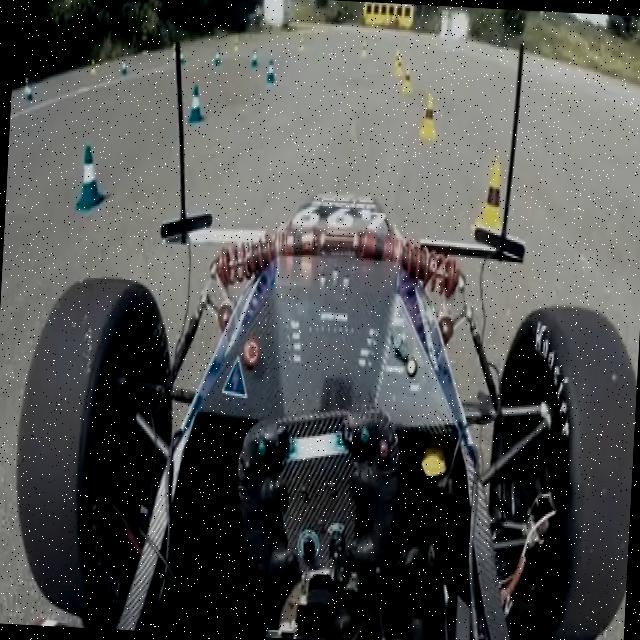blue_cone: (74, 143, 108, 214), (188, 85, 206, 125)
yellow_cone: (470, 158, 510, 242), (420, 93, 440, 141)
